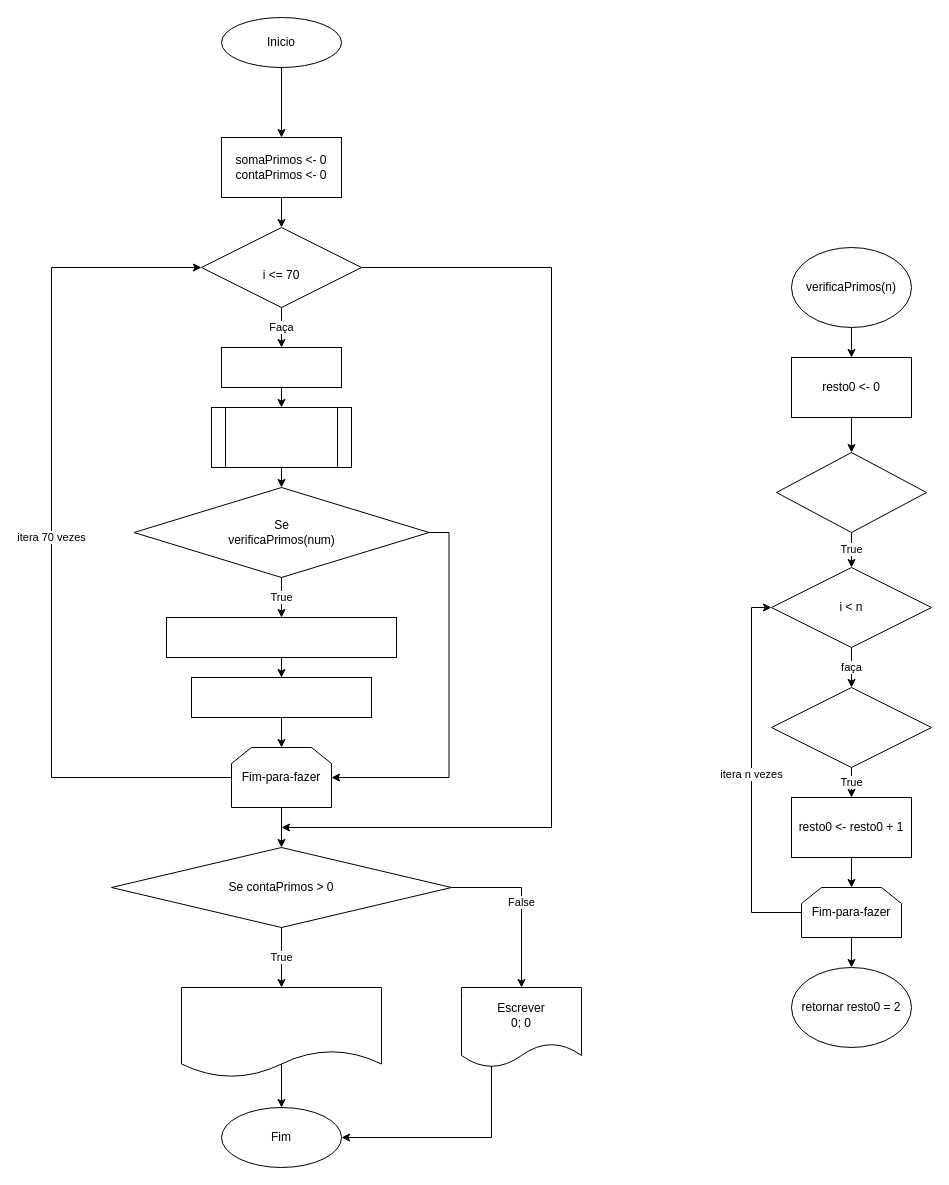
Image size: 949x1185. Some labels were removed from this diagram. Each missing label, with the centre of its shape:
contaPrimos = contaPrimos + 1: the point at 281,697
Escrever somaPrimos, (float)somaPrimos/contaPrimos: the point at 281,1032
num <- rand() % 100: the point at 281,367
Se n != 0: the point at 851,492
Se n % i = 0: the point at 851,727
somaPrimos <- somaPrimos + num: the point at 281,637
verificaPrimos(num): the point at 281,437
